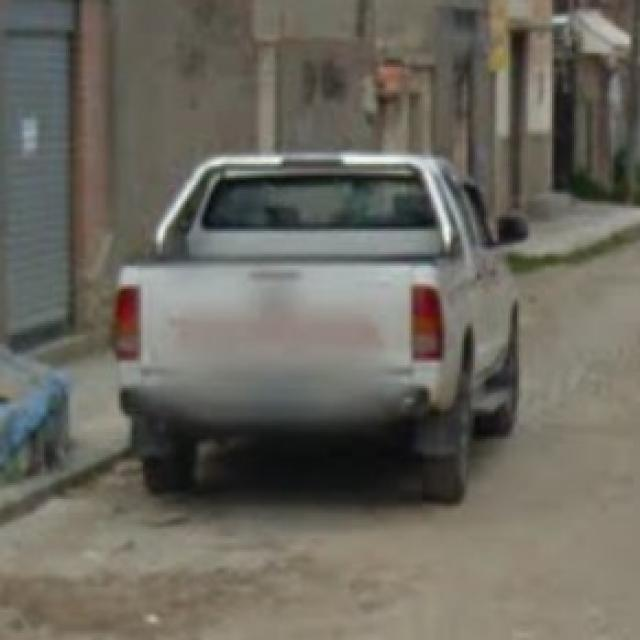cars: (106, 148, 532, 504)
